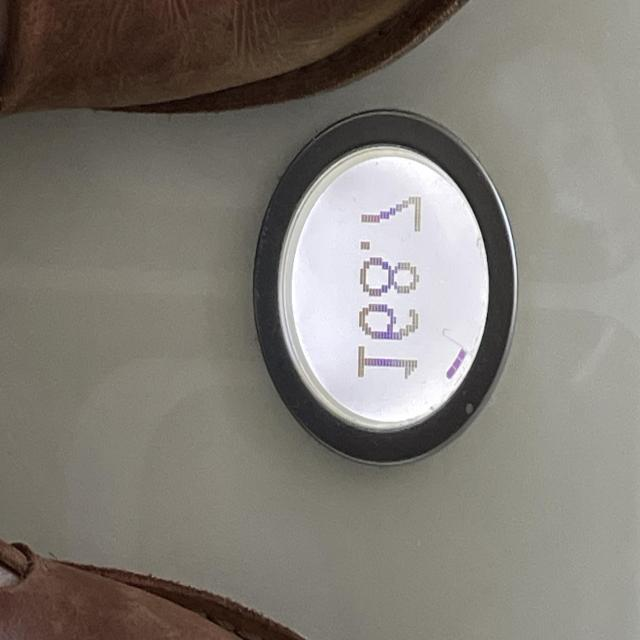ws: (253, 109, 519, 469)
